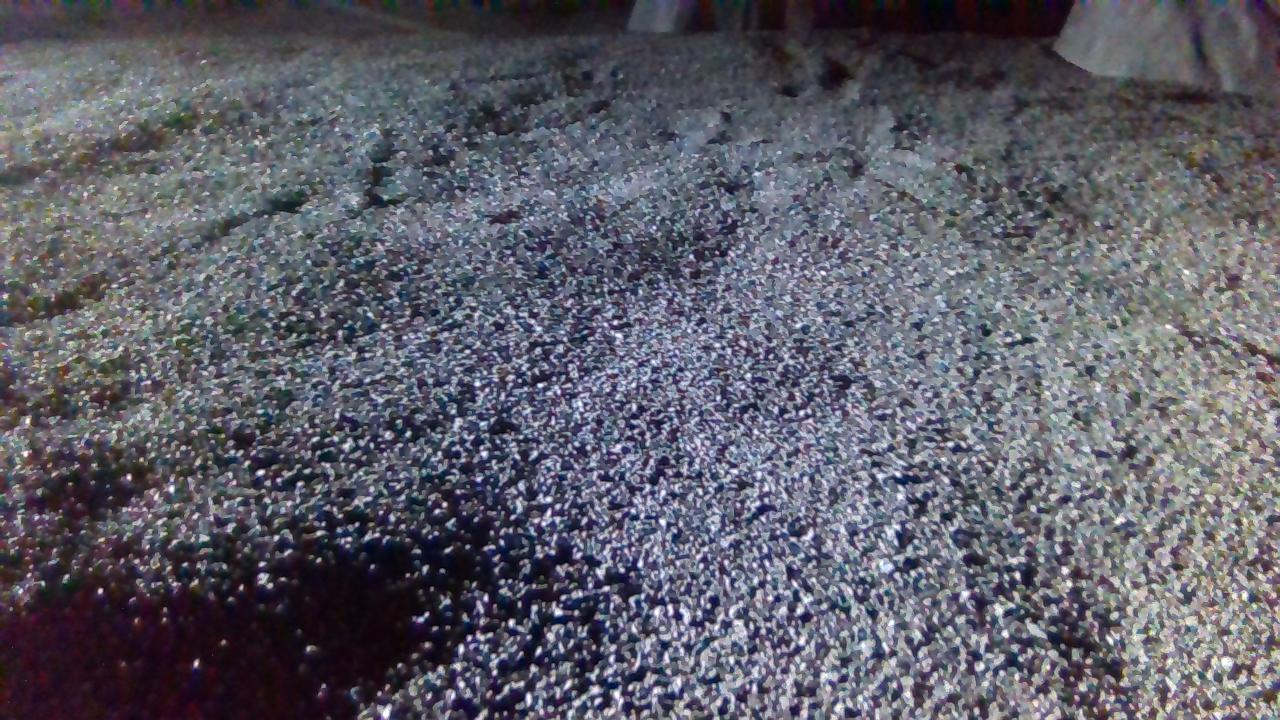rock: (1056, 0, 1280, 96), (628, 0, 816, 30)
